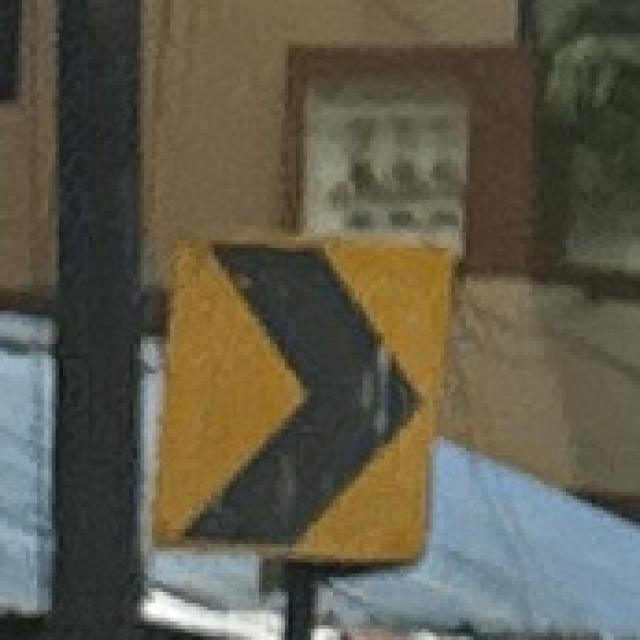TURN_RIGHT: (140, 228, 461, 570)
